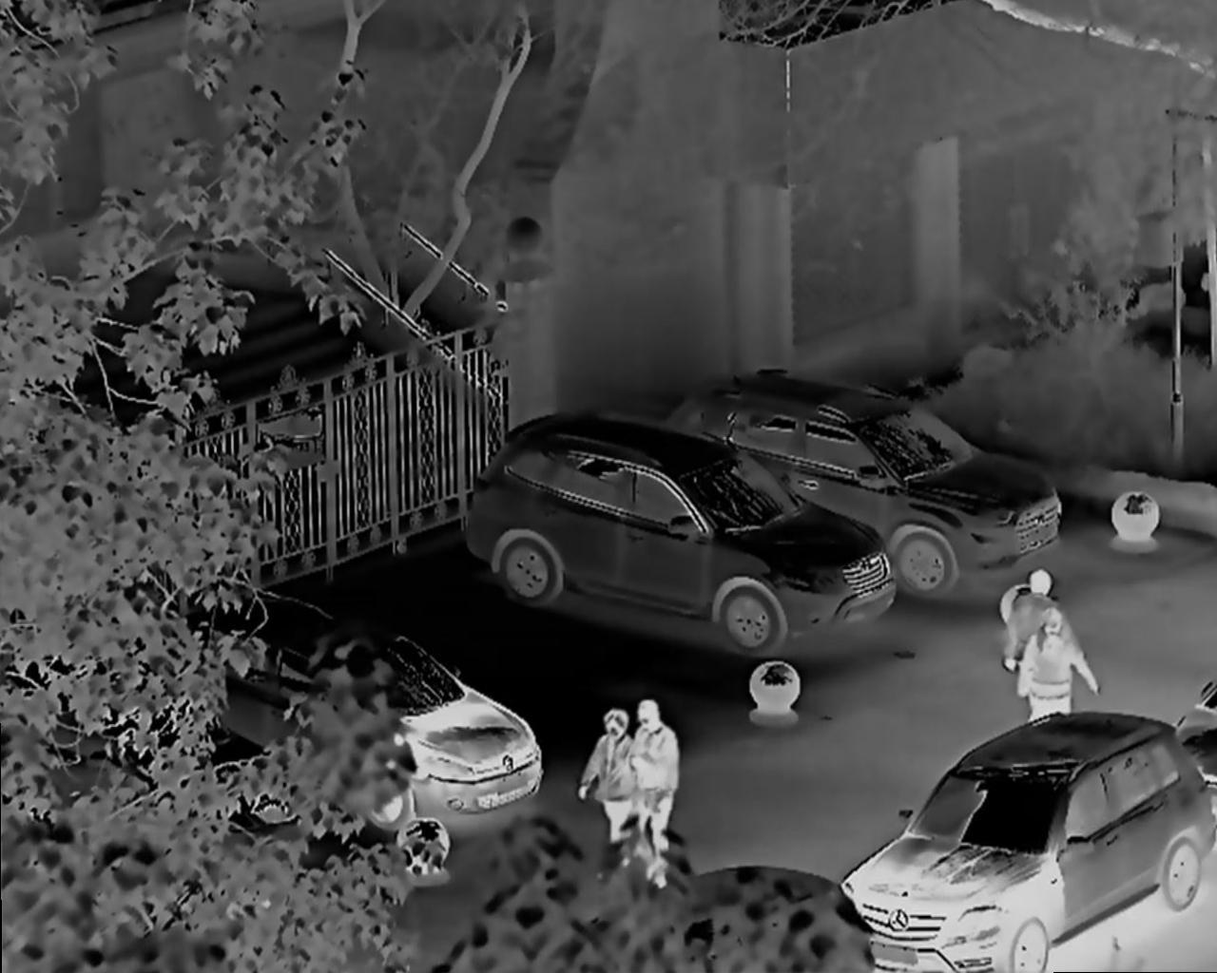person: (622, 694, 686, 863), (1008, 626, 1113, 725), (589, 696, 629, 829), (1014, 571, 1069, 625)
